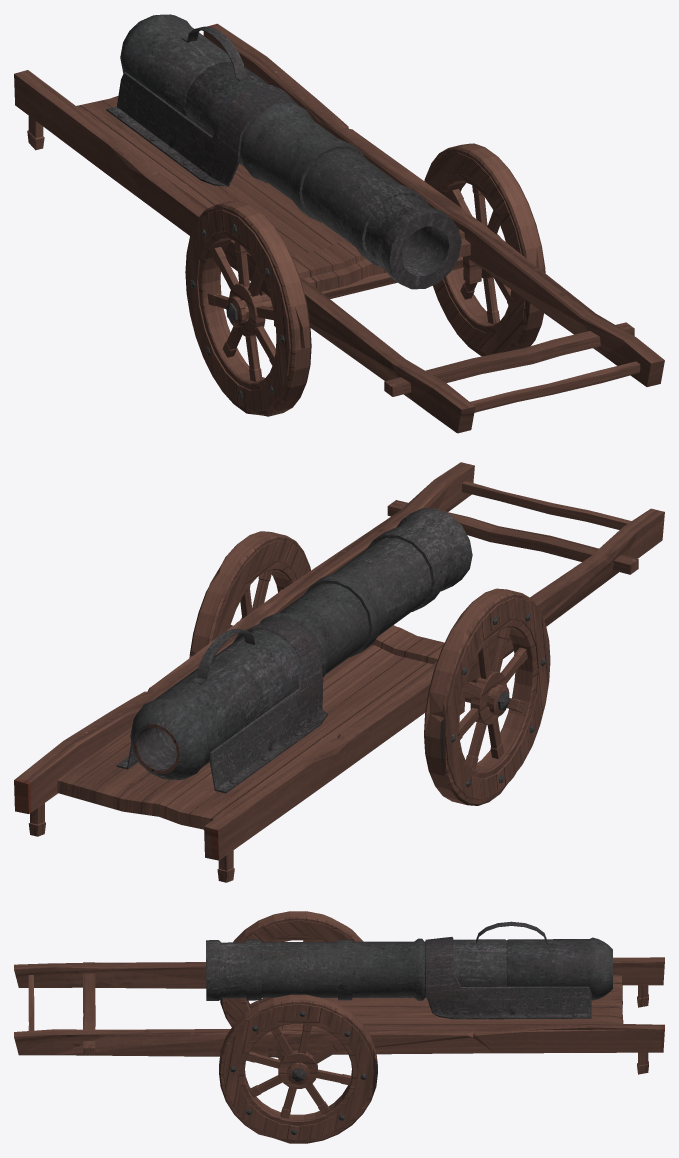
Rendered from folangji.FBX.
3 renders of one model, top to bottom at view 1: azimuth 30°, elevation 25°; view 2: azimuth 150°, elevation 25°; view 3: azimuth 270°, elevation 25°, orthographic. The views are drawn at different scales.
Parts seen in each view (by area): view 1: pao, lunzi1, lunzi2; view 2: pao, lunzi1, lunzi2; view 3: pao, lunzi2, lunzi1.
Part boxes in pixels (<box>): pao: <box>14,14,664,433</box>; lunzi1: <box>185,201,311,416</box>; lunzi2: <box>424,143,545,356</box>; pao: <box>14,462,664,882</box>; lunzi1: <box>424,588,550,805</box>; lunzi2: <box>189,531,310,657</box>; pao: <box>14,921,664,1084</box>; lunzi2: <box>219,994,377,1143</box>; lunzi1: <box>220,911,363,1057</box>.
Size of the model in its own units: 171 by 141 by 476.
